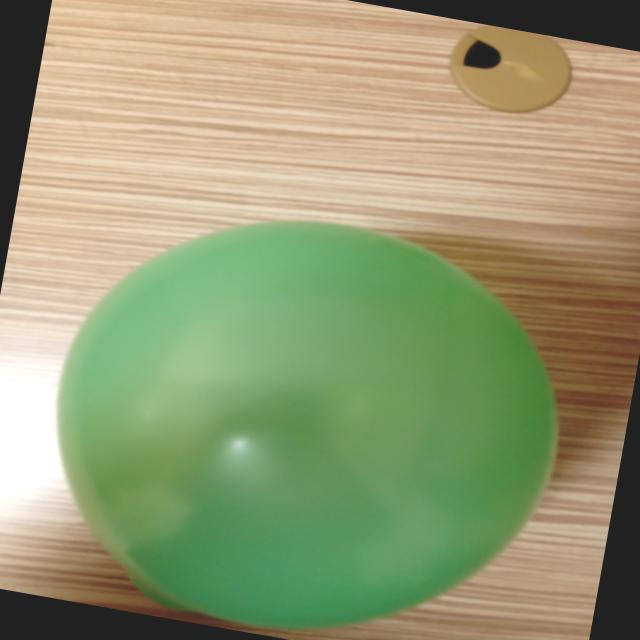balloon: (56, 221, 557, 628)
